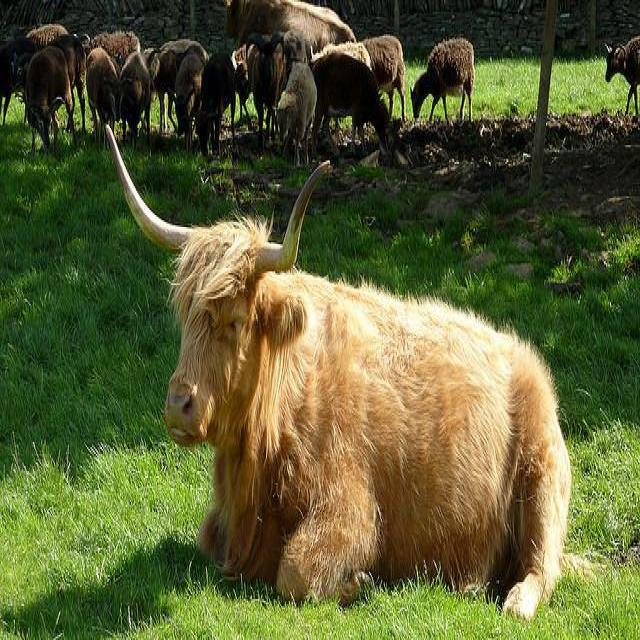Sheep: (311, 51, 407, 166), (23, 44, 79, 160), (145, 37, 210, 136), (245, 30, 289, 158), (411, 39, 475, 125), (276, 61, 317, 169), (87, 48, 122, 150), (170, 56, 205, 154), (364, 38, 406, 116), (604, 36, 639, 116)
